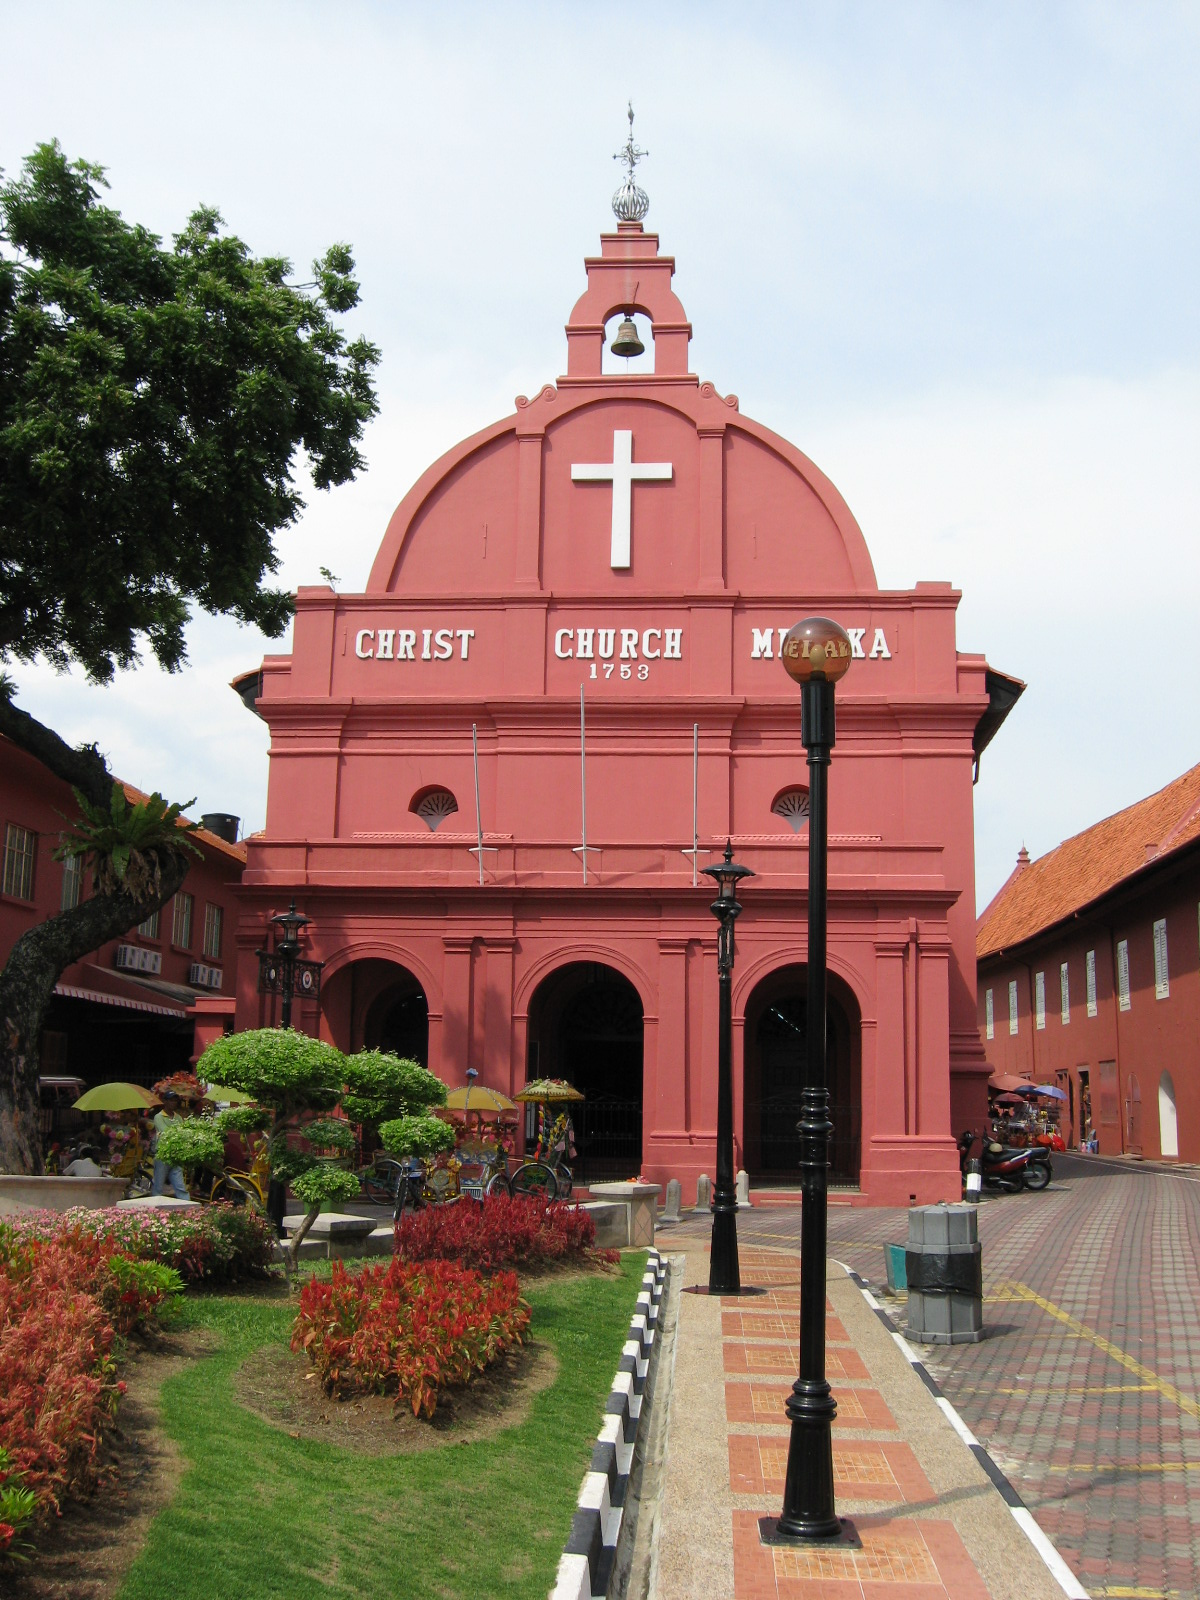Church: (205, 106, 973, 1178)
